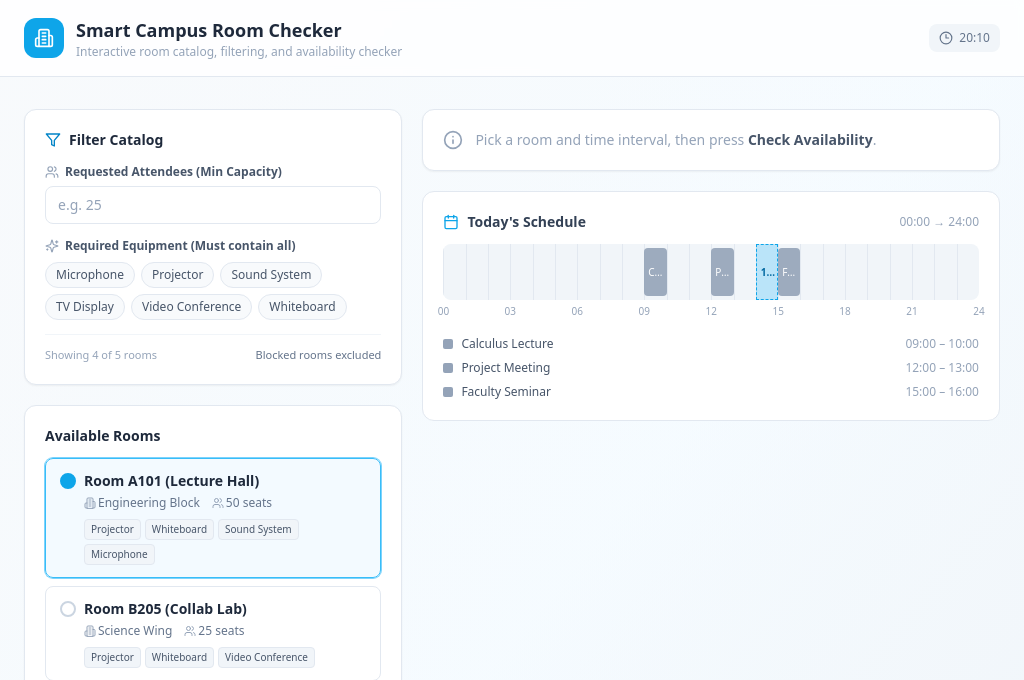
Smart Campus Automated Test Suite - Task #04 › UI Behavior & Component Integration › UI-1: Typing in requested attendees updates the visible room list and displays empty state when none match
The width and height of the screenshot is (1024, 680).
Type "45" into the number field with placeholder "e.g. 25" at (213, 205), box [45,186,381,224]
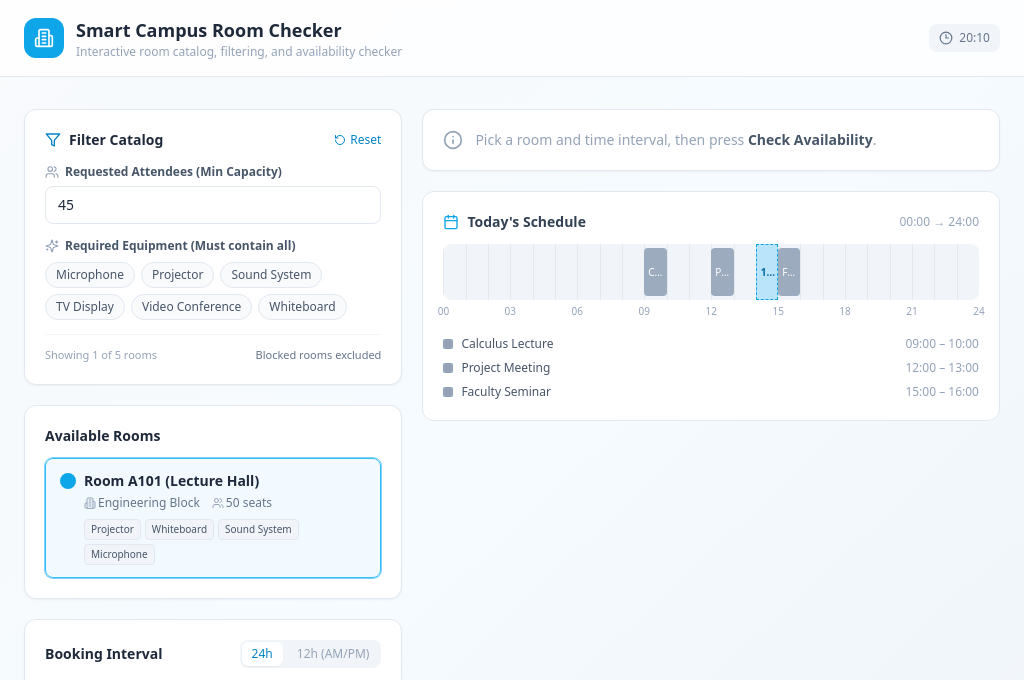
Expected: the text "Room A101 (Lecture Hall)" is shown, [84,470,259,490]
Now the button "Room B205" is gone
Replace the text in the number field with placeholder "e.g. 25" with "500" at (213, 205), box [45,186,381,224]
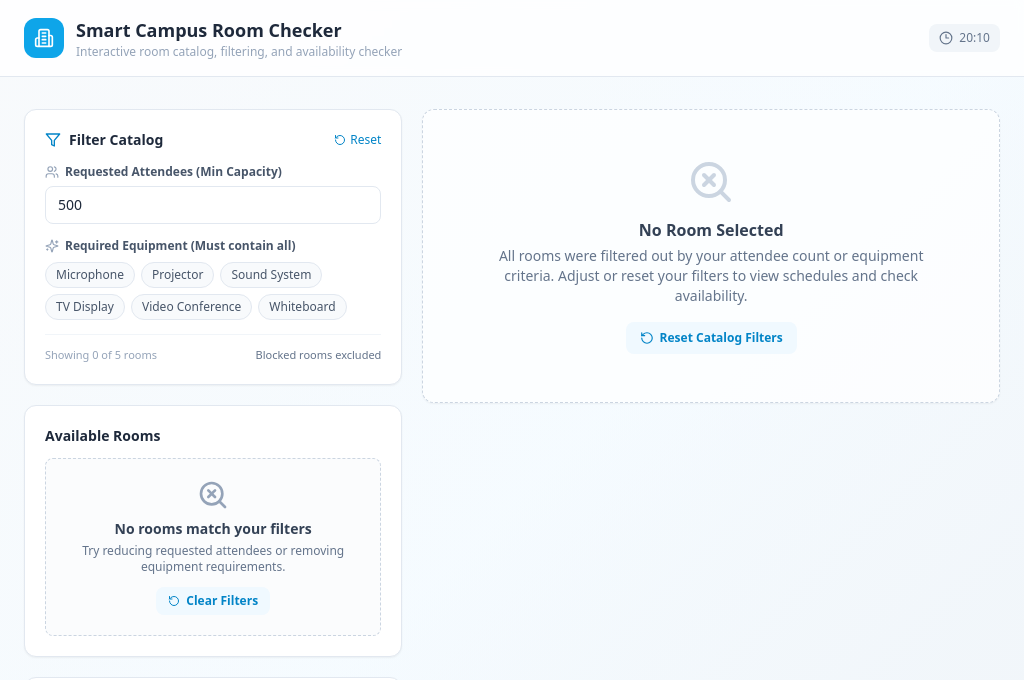
Now the text "No rooms match your filters" is shown, box [115,518,312,538]
Now the heading "No Room Selected" is shown, box [639,219,784,241]
